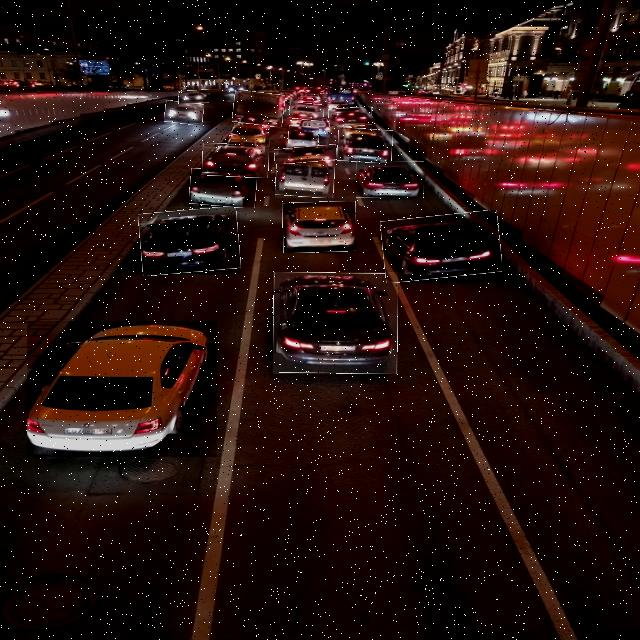Car: (28, 321, 218, 457), (273, 272, 398, 374), (382, 213, 501, 281), (140, 208, 240, 274), (283, 202, 356, 252), (356, 161, 424, 198), (190, 170, 256, 207), (275, 158, 335, 198), (202, 144, 269, 178), (275, 146, 337, 163), (165, 101, 203, 124), (234, 123, 270, 146), (329, 108, 372, 126), (289, 126, 319, 149), (289, 103, 324, 121), (178, 89, 209, 104)
Truck: (338, 128, 392, 163), (233, 92, 284, 126)
